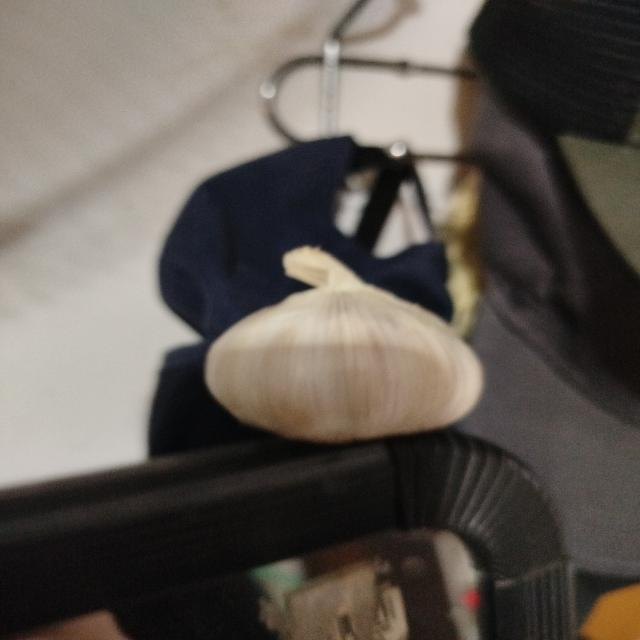garlic: (203, 244, 485, 444)
